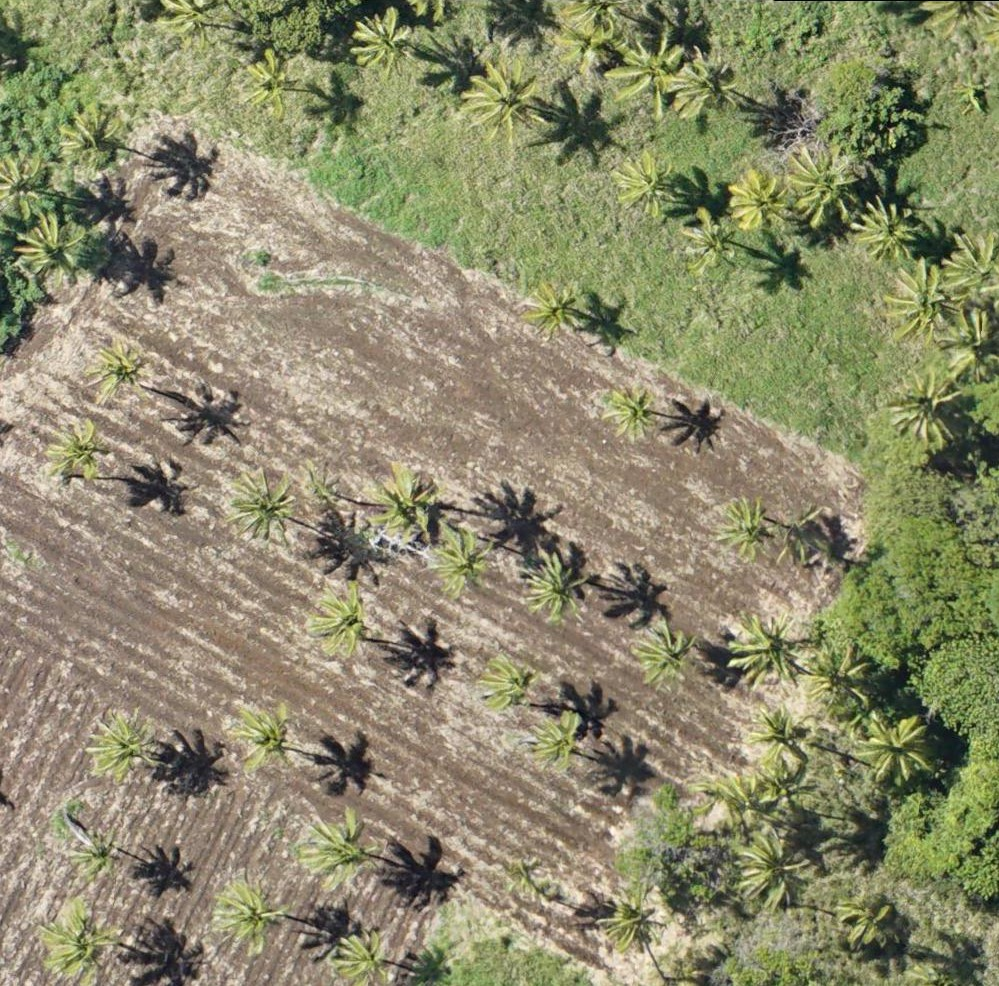Palm: (36, 901, 116, 983), (300, 814, 375, 892), (466, 64, 541, 140), (785, 147, 858, 224), (212, 878, 285, 954), (738, 829, 806, 908), (728, 612, 801, 685), (885, 264, 951, 344), (618, 39, 690, 112), (887, 372, 959, 443), (90, 709, 161, 780), (308, 581, 372, 659), (371, 465, 437, 539), (423, 526, 492, 596), (232, 471, 295, 544), (941, 227, 999, 306), (14, 213, 83, 279), (857, 720, 928, 783), (803, 643, 870, 709), (835, 889, 905, 952), (227, 703, 292, 769), (726, 167, 791, 233), (854, 197, 918, 263), (527, 555, 589, 620), (632, 618, 693, 683), (614, 151, 675, 216), (351, 8, 411, 74), (752, 708, 812, 772), (678, 207, 735, 273), (676, 52, 732, 119), (936, 314, 997, 375), (56, 103, 116, 164), (523, 279, 582, 339), (600, 896, 663, 952), (89, 341, 146, 402), (49, 422, 111, 478), (755, 766, 816, 821), (477, 652, 532, 713), (333, 932, 395, 986), (245, 49, 294, 114), (1, 152, 49, 217), (606, 382, 657, 441), (718, 500, 771, 556), (66, 830, 121, 883), (530, 713, 583, 768)
